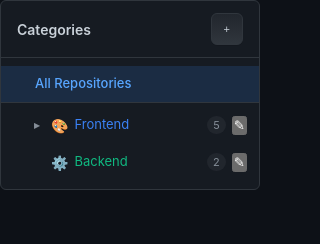
Test: CategorySidebar › expands and collapses categories with children
Expected: the text "React" is not shown
Click the button named "Expand" at (37,125), box top-left (29, 117), bottom-right (45, 133)
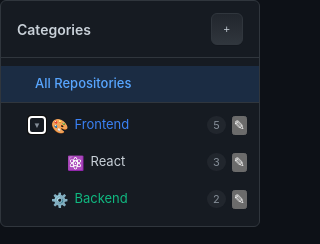
Result: the text "React" is shown at top-left (90, 153), bottom-right (125, 169)
